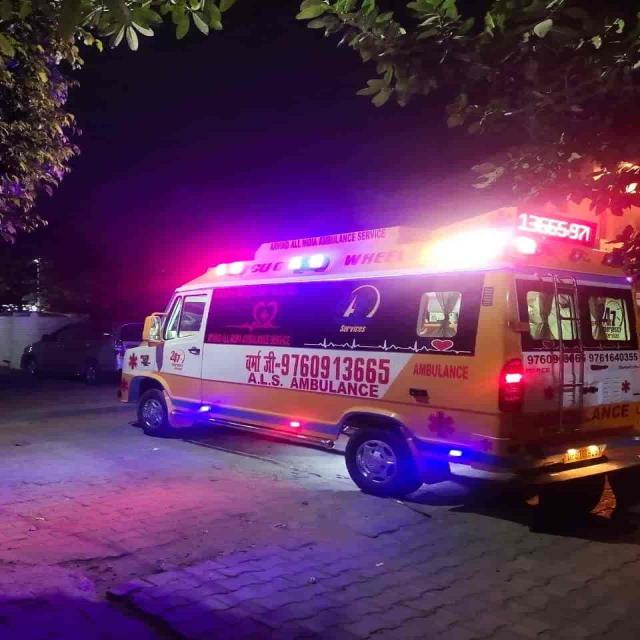emergency: (120, 208, 638, 510)
